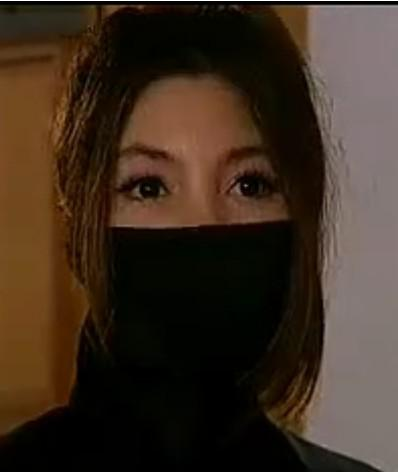OK: (94, 116, 316, 338)
